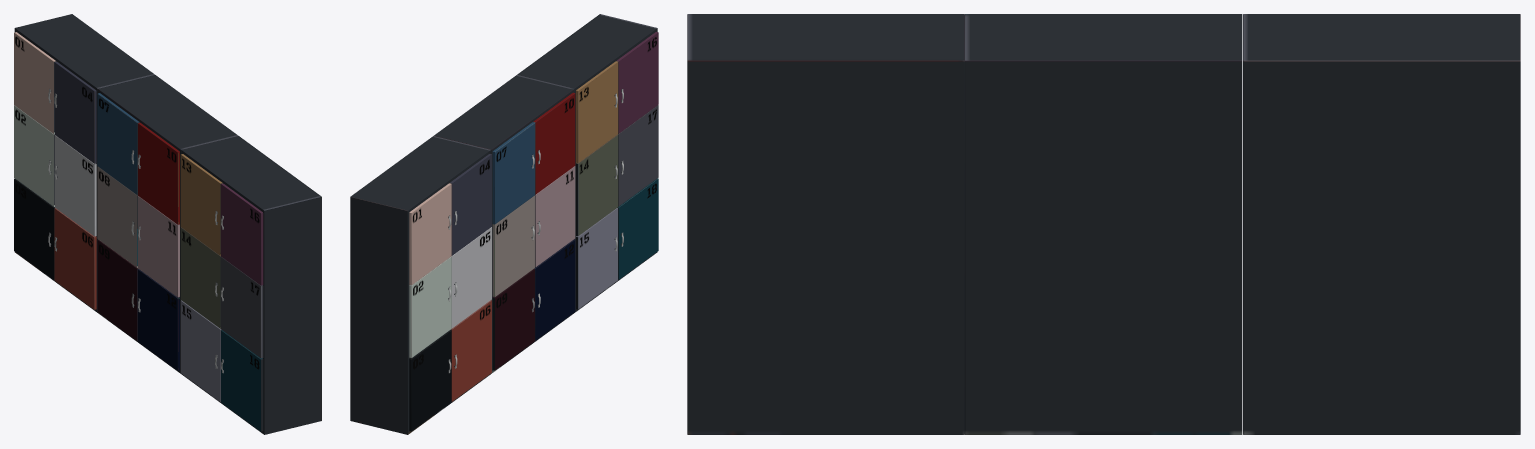
File: Locker.fbx
3 views of the same model, side by side, from view 1: azimuth 30°, elevation 25°; view 2: azimuth 150°, elevation 25°; view 3: azimuth 270°, elevation 25° (orthographic). The views are drawn at different scales.
Parts seen in each view (by area): view 1: Mesh_Locker; view 2: Mesh_Locker; view 3: Mesh_Locker.
Boxes of the visible parts, x1,y1,x2,y2 form: Mesh_Locker: [14, 14, 321, 434]; Mesh_Locker: [350, 14, 658, 434]; Mesh_Locker: [687, 14, 1520, 434].
Size of the model in its own units: 42.92 by 149 by 300.
1 material, 1 textured.
